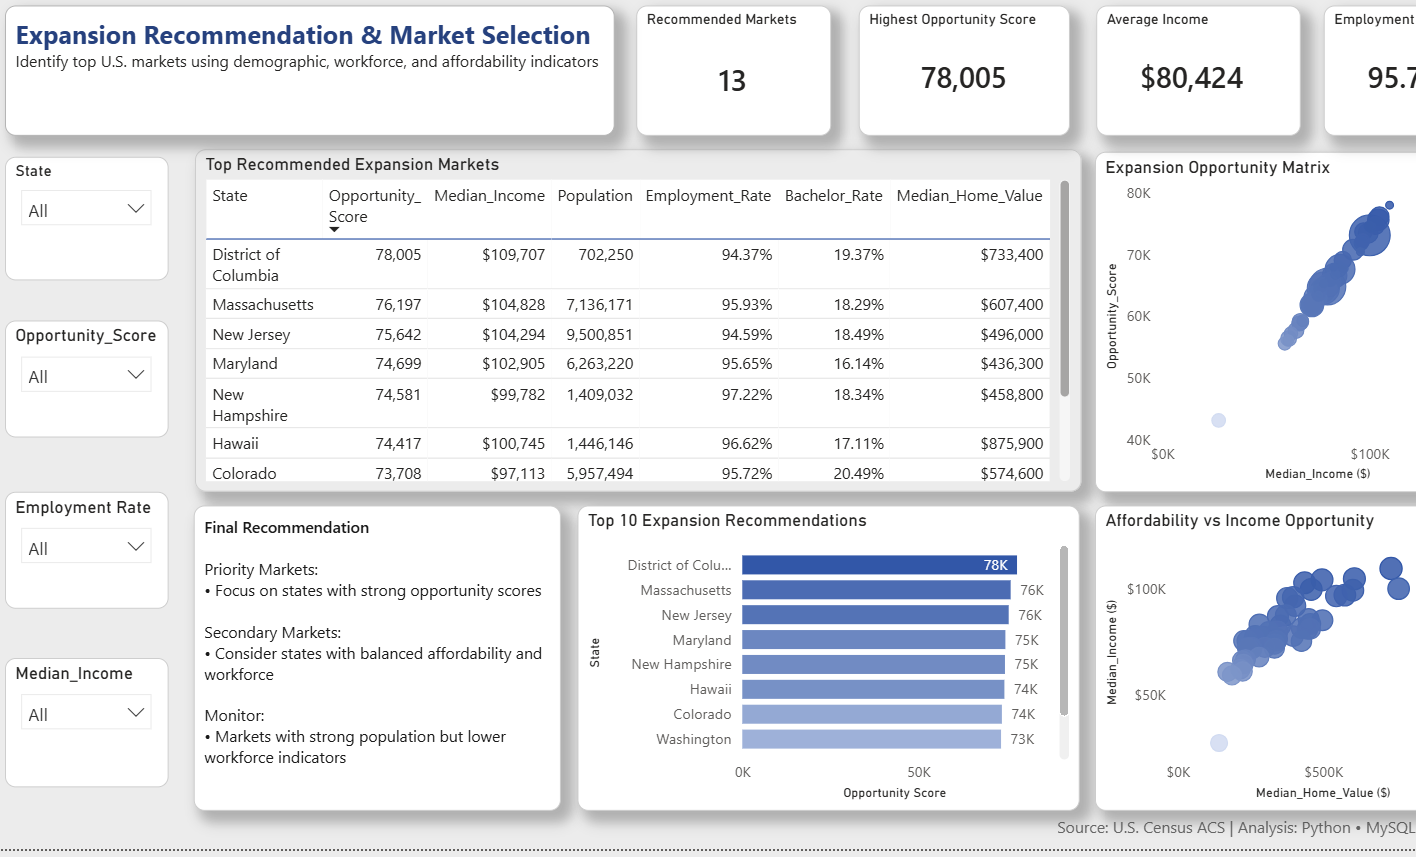

Layout of this report page (visuals, bound fields, positions):
{"tool":"powerbi","page":{"name":"Expansion Recommendation & Market Selection","canvas":[1280,720],"ordinal":3},"visuals":[{"type":"slicer","title":"Opportunity_Score","fields":{"Values":["ACS_Master_Dataset.Opportunity_Score"]},"box":[4.1,275.8,137.2,98.8],"z":0},{"type":"slicer","title":"State","fields":{"Values":["ACS_Master_Dataset.State"]},"box":[4.1,137.2,137.2,104.3],"z":1000},{"type":"slicer","title":"Employment Rate","fields":{"Values":["ACS_Master_Dataset.Employment_Rate"]},"box":[4.1,419.9,137.2,98.8],"z":2000},{"type":"tableEx","title":"Top Recommended Expansion Markets","fields":{"Values":["ACS_Master_Dataset.State","ACS_Master_Dataset.Opportunity_Score","ACS_Master_Dataset.Median_Income","ACS_Master_Dataset.Population","ACS_Master_Dataset.Employment_Rate","ACS_Master_Dataset.Bachelor_Rate","ACS_Master_Dataset.Median_Home_Value"]},"box":[164,131.4,745.4,288.4],"z":3000},{"type":"scatterChart","title":"Expansion Opportunity Matrix","fields":{"X":["ACS_Master_Dataset.Median_Income"],"Y":["Avg(ACS_Master_Dataset.Opportunity_Score)"],"Size":["Avg(ACS_Master_Dataset.Population)"]},"box":[920.9,133.7,344.2,286],"z":4000},{"type":"cardVisual","title":"Recommended Markets","fields":{"Data":["ACS_Master_Dataset.Recommended States"]},"box":[534.9,10.5,164,109.3],"z":5000},{"type":"cardVisual","title":"Average Income","fields":{"Data":["ACS_Master_Dataset.Avg Income"]},"box":[922.1,10.5,172.1,109.3],"z":6000},{"type":"cardVisual","title":"Highest Opportunity Score","fields":{"Data":["ACS_Master_Dataset.Highest Opportunity"]},"box":[722.1,10.5,177.9,109.3],"z":7000},{"type":"textbox","box":[163.3,430.9,308.7,256.6],"z":8000},{"type":"textbox","box":[883.7,687.2,396.5,32.6],"z":9000},{"type":"textbox","box":[4.7,10.5,512.8,109.3],"z":10000},{"type":"cardVisual","title":"Employment Rate","fields":{"Data":["ACS_Master_Dataset.Avg Employment"]},"box":[1114,10.5,151.2,109.3],"z":11000},{"type":"clusteredBarChart","title":"Top 10 Expansion Recommendations","fields":{"Category":["ACS_Master_Dataset.State"],"Y":["Max(ACS_Master_Dataset.Opportunity_Score)"]},"box":[485.8,430.9,422.6,256.6],"z":12000},{"type":"scatterChart","title":"Affordability vs Income Opportunity","fields":{"Y":["ACS_Master_Dataset.Median_Income"],"X":["ACS_Master_Dataset.Median_Home_Value"],"Size":["Avg(ACS_Master_Dataset.Opportunity_Score)"]},"box":[920.8,430.9,344.4,256.6],"z":13000},{"type":"slicer","title":"Median_Income","fields":{"Values":["ACS_Master_Dataset.Median_Income"]},"box":[4.1,559.9,137.2,108.4],"z":14000}]}

Visuals, with their boxes on the page's 1280x720 design canvas (x1, y1, x2, y2). These are canvas units, not pixel positions in the 1416x857 screenshot, which may show the page scaled, cropped or inside an application window:
"Opportunity_Score" slicer: 4, 276, 141, 375
"State" slicer: 4, 137, 141, 242
"Employment Rate" slicer: 4, 420, 141, 519
"Top Recommended Expansion Markets" tableEx: 164, 131, 909, 420
"Expansion Opportunity Matrix" scatterChart: 921, 134, 1265, 420
"Recommended Markets" cardVisual: 535, 10, 699, 120
"Average Income" cardVisual: 922, 10, 1094, 120
"Highest Opportunity Score" cardVisual: 722, 10, 900, 120
textbox: 163, 431, 472, 688
textbox: 884, 687, 1280, 720
textbox: 5, 10, 518, 120
"Employment Rate" cardVisual: 1114, 10, 1265, 120
"Top 10 Expansion Recommendations" clusteredBarChart: 486, 431, 908, 688
"Affordability vs Income Opportunity" scatterChart: 921, 431, 1265, 688
"Median_Income" slicer: 4, 560, 141, 668
